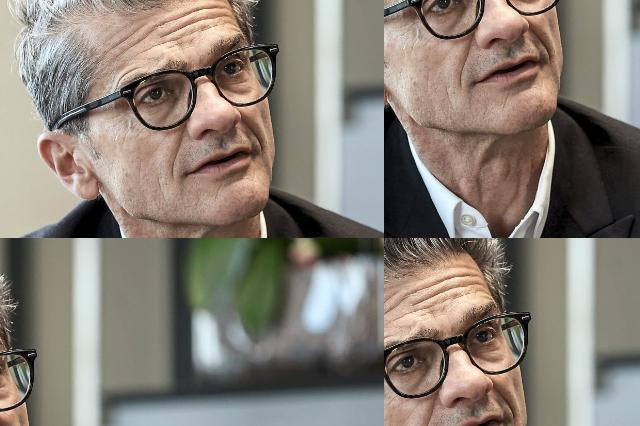bunny_line: (89, 32, 105, 50), (60, 34, 76, 52)
chin: (41, 115, 59, 130), (72, 122, 90, 134), (104, 116, 118, 128)
crows_feet: (6, 15, 24, 29), (138, 14, 148, 28)
forehead: (410, 278, 452, 310), (455, 265, 481, 301), (384, 294, 403, 323)
frown_line: (71, 0, 91, 18)
gummy_smile: (489, 382, 519, 418), (37, 55, 53, 89), (421, 394, 438, 426), (106, 55, 126, 76)
masseter: (134, 62, 144, 88), (16, 73, 26, 95)
sad_smile: (36, 93, 54, 105), (115, 92, 127, 106)
smoker_lines: (59, 78, 76, 88), (100, 79, 112, 88)
